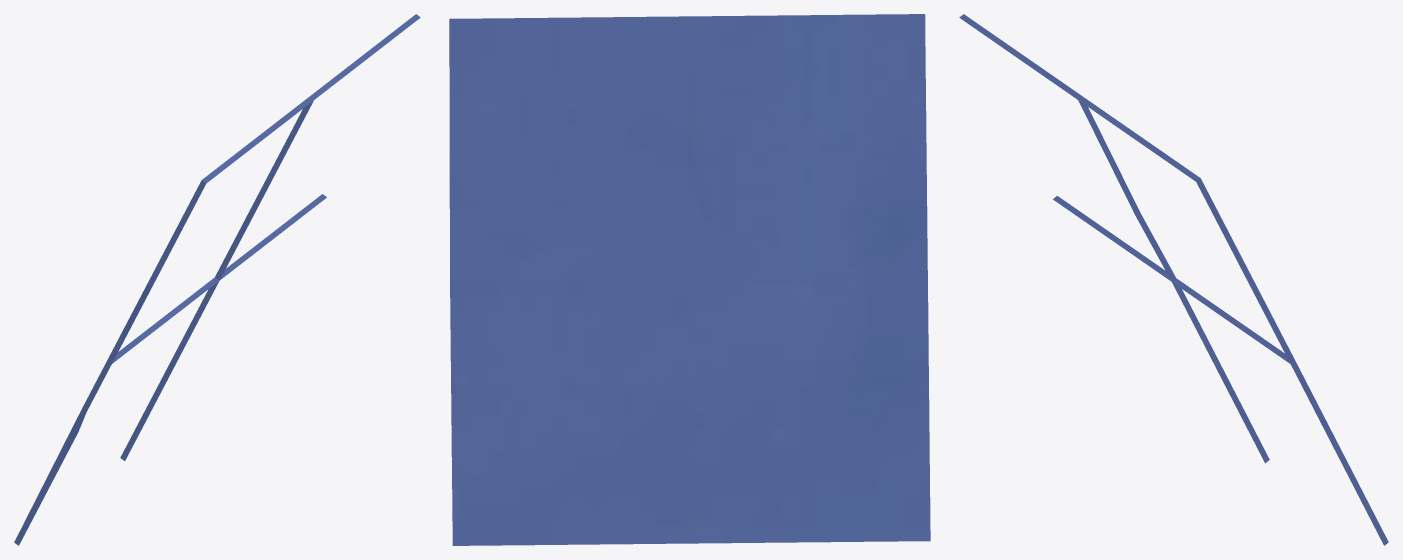
3 views of the same model, side by side, from view 1: azimuth 30°, elevation 25°; view 2: azimuth 150°, elevation 25°; view 3: azimuth 270°, elevation 25° (orthographic). The views are drawn at different scales.
Bounding box in the file's own units: 19618 × 17797 × 16711.
1 material, 1 textured.
